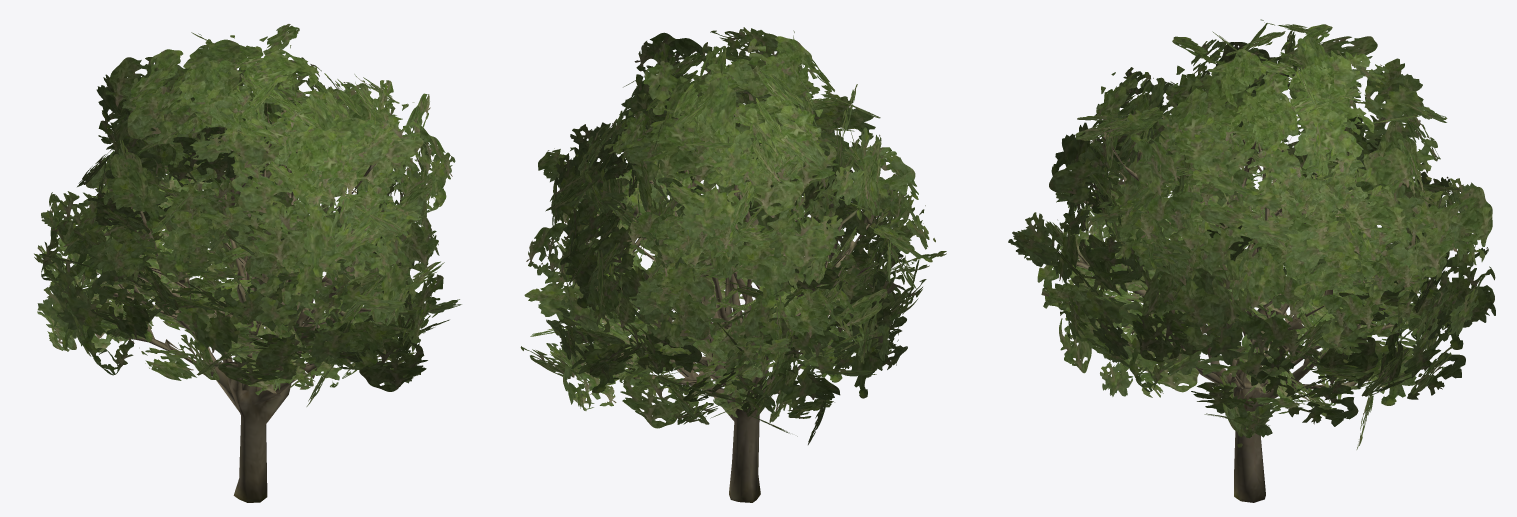
File: plant_sidr.glb
3 renders of one model, left to right at view 1: azimuth 30°, elevation 25°; view 2: azimuth 150°, elevation 25°; view 3: azimuth 270°, elevation 25°, orthographic. The views are drawn at different scales.
Parts seen in each view (by area): view 1: leaf_sidr, bark_sidr; view 2: leaf_sidr, bark_sidr; view 3: leaf_sidr, bark_sidr.
Part boxes in pixels (left/top/right/bottom): leaf_sidr: left=34, top=24, right=461, bottom=406; bark_sidr: left=101, top=102, right=375, bottom=502; leaf_sidr: left=520, top=27, right=946, bottom=444; bark_sidr: left=596, top=61, right=879, bottom=502; leaf_sidr: left=1008, top=19, right=1495, bottom=449; bark_sidr: left=1057, top=131, right=1394, bottom=502.
Bounding box in the file's own units: 5.4 × 6.02 × 5.86.
2 materials, 2 textured.
